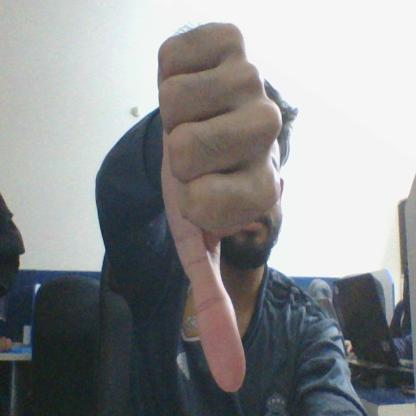thumbs-down: (149, 26, 284, 398)
